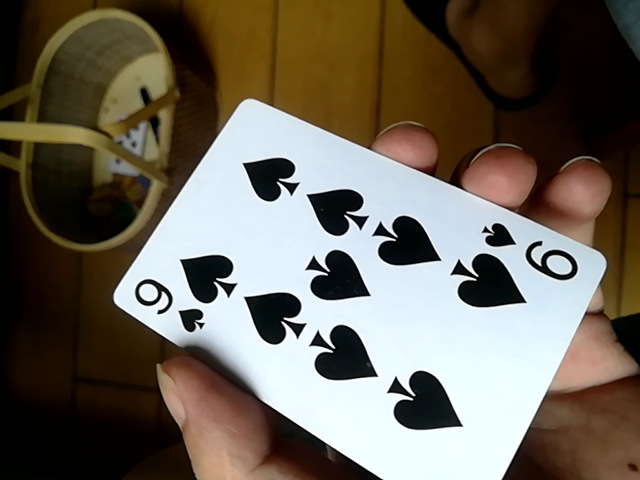ht 9: (98, 104, 609, 480)
